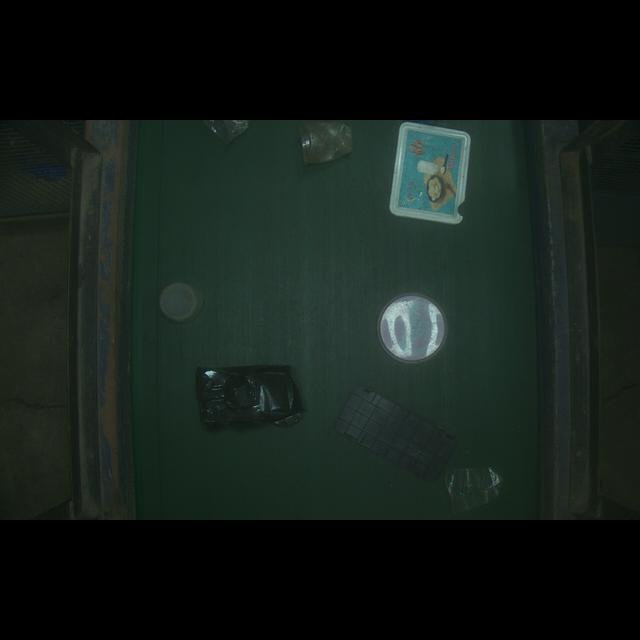mix rigid: (322, 386, 459, 474), (387, 111, 470, 229), (188, 358, 306, 434), (371, 284, 451, 364), (156, 278, 205, 322)
